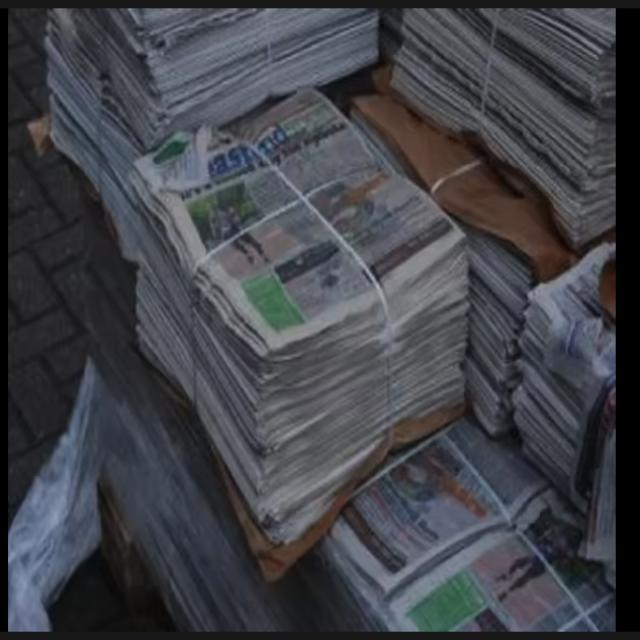Koran: (124, 88, 482, 555)
